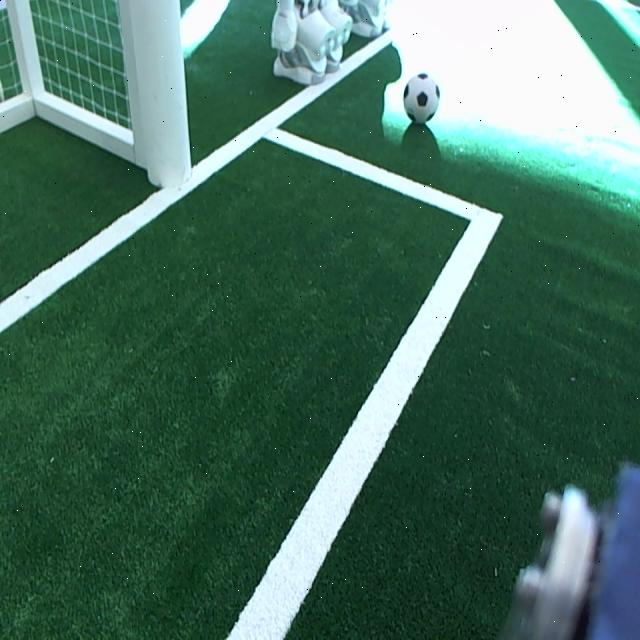ball: (402, 72, 440, 124)
goalpost: (130, 3, 192, 185)
